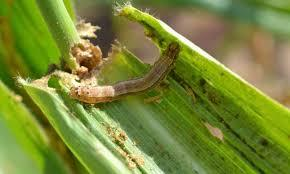fallarmy_worm: (65, 41, 189, 106)
